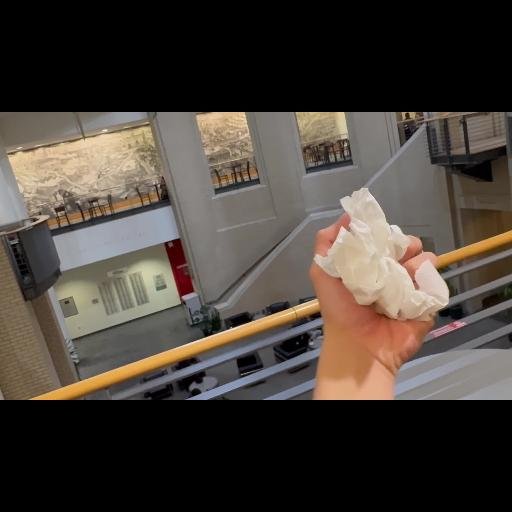napkin: (314, 184, 448, 324)
